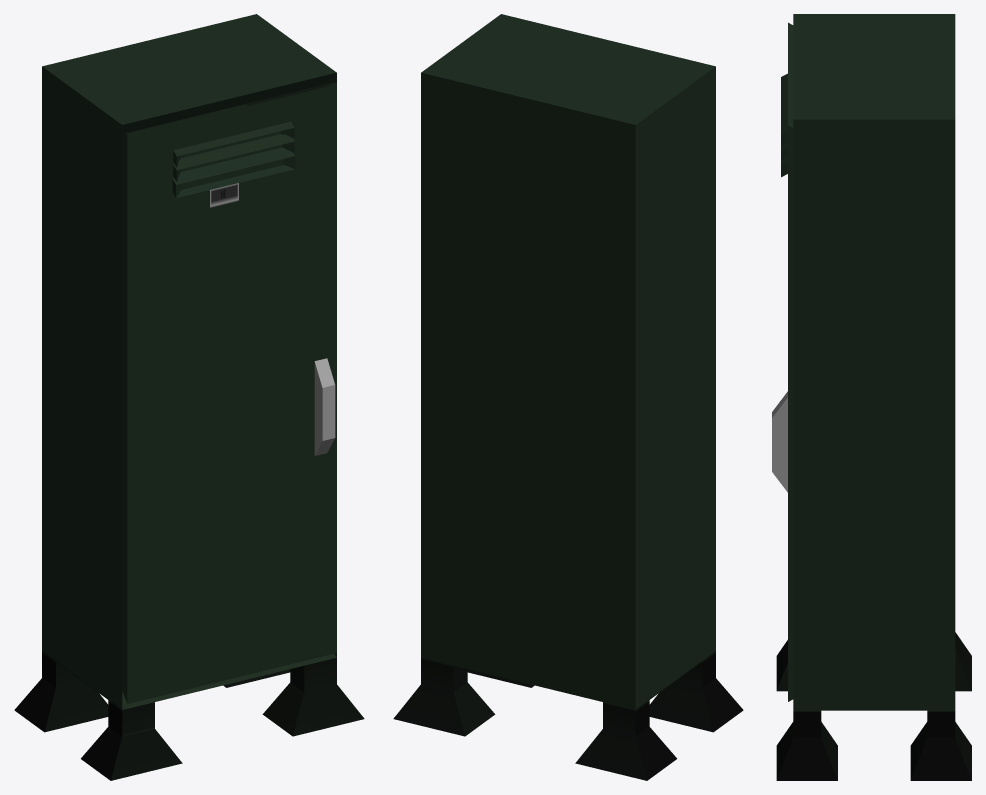
Rendered from Locker.fbx.
The picture shows the model from 3 angles, left to right: view 1: azimuth 30°, elevation 25°; view 2: azimuth 150°, elevation 25°; view 3: azimuth 270°, elevation 25°; orthographic projection.
Parts seen in each view (by area): view 1: pCube87; view 2: pCube87; view 3: pCube87.
Part boxes in pixels (x1,y1,x2,y2): pCube87: [14, 14, 364, 780]; pCube87: [393, 14, 743, 780]; pCube87: [772, 14, 971, 780].
Bounding box in the file's own units: 0.4734 × 1.15 × 0.3194.
